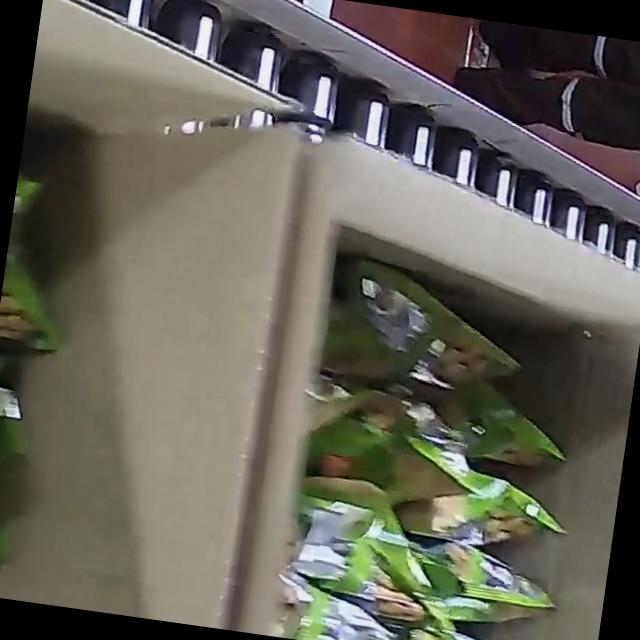yogurt: (266, 247, 608, 640), (0, 86, 187, 614)
